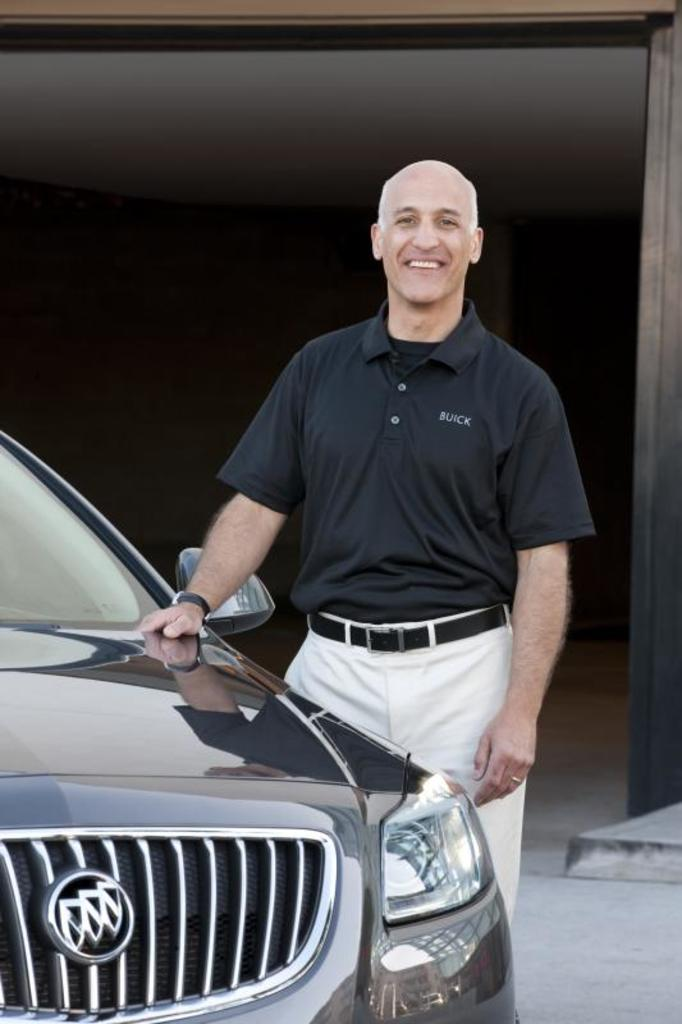Car: (0, 423, 525, 1022)
